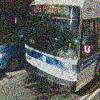buses: (19, 0, 100, 93)
